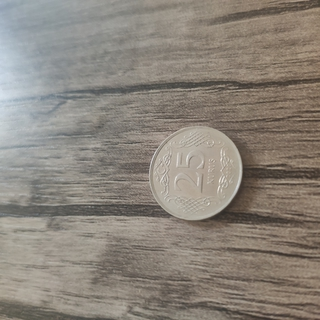25KURUS: (148, 124, 244, 221)
